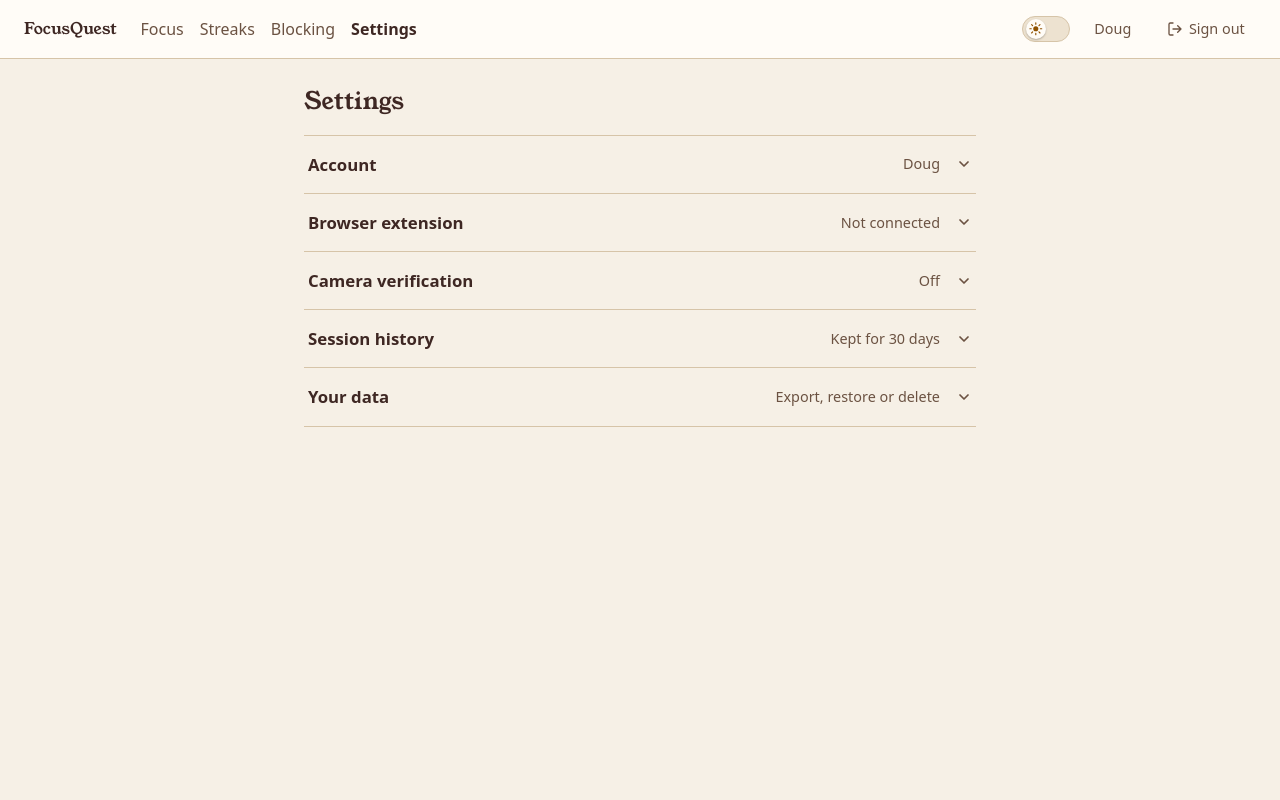
Scenario: SettingsView › shows each area as a closed row with its status, opening on click
Check: the elements with class "section__title" read "Account", "Browser extension", "Camera verification", "Session history", "Your data", in this order, box [308,153,377,176]; [308,211,464,234]; [308,269,473,292]; [308,327,434,350]; [308,385,389,408]
Check: the button "Camera verification Off" is shown, box [304,252,976,309]
Click the button "Account Doug" at [342, 164], box [304,136,976,193]
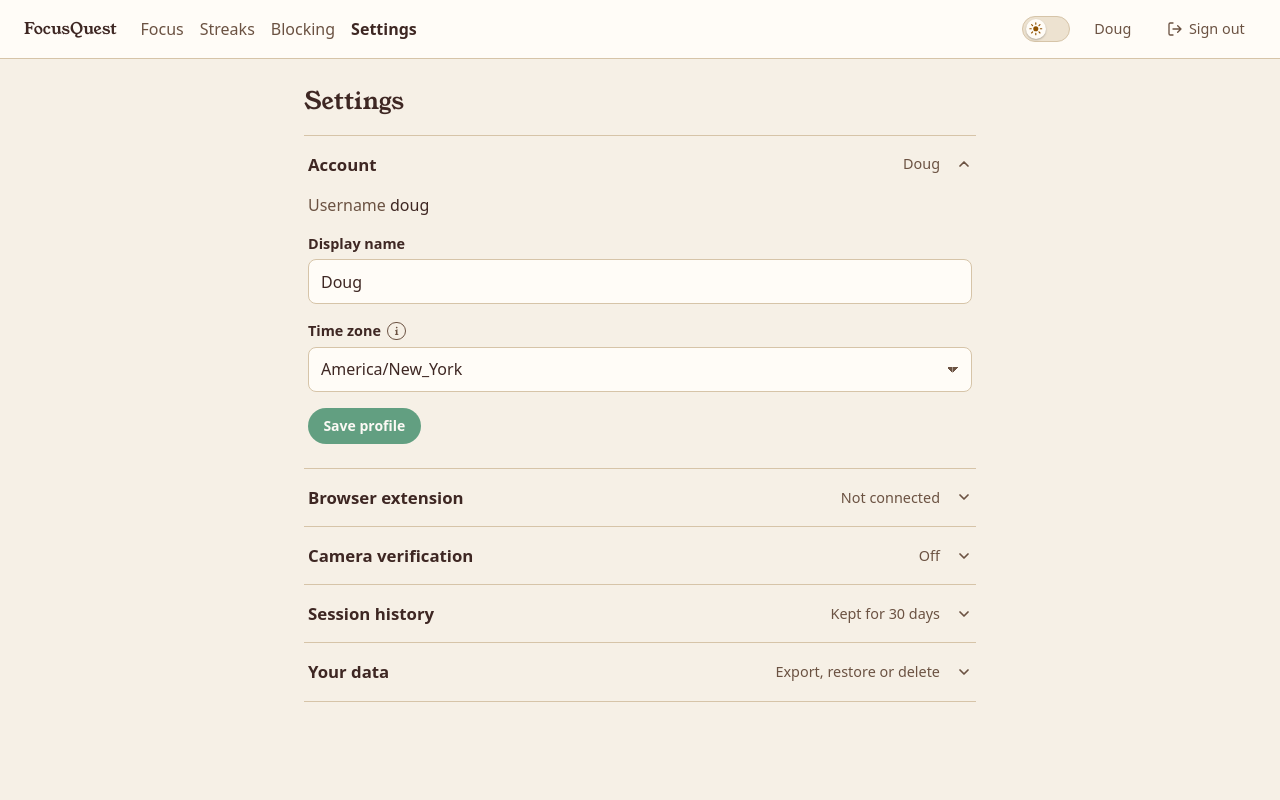
Check: the button "Account Doug" is expanded, box [304,136,976,193]
